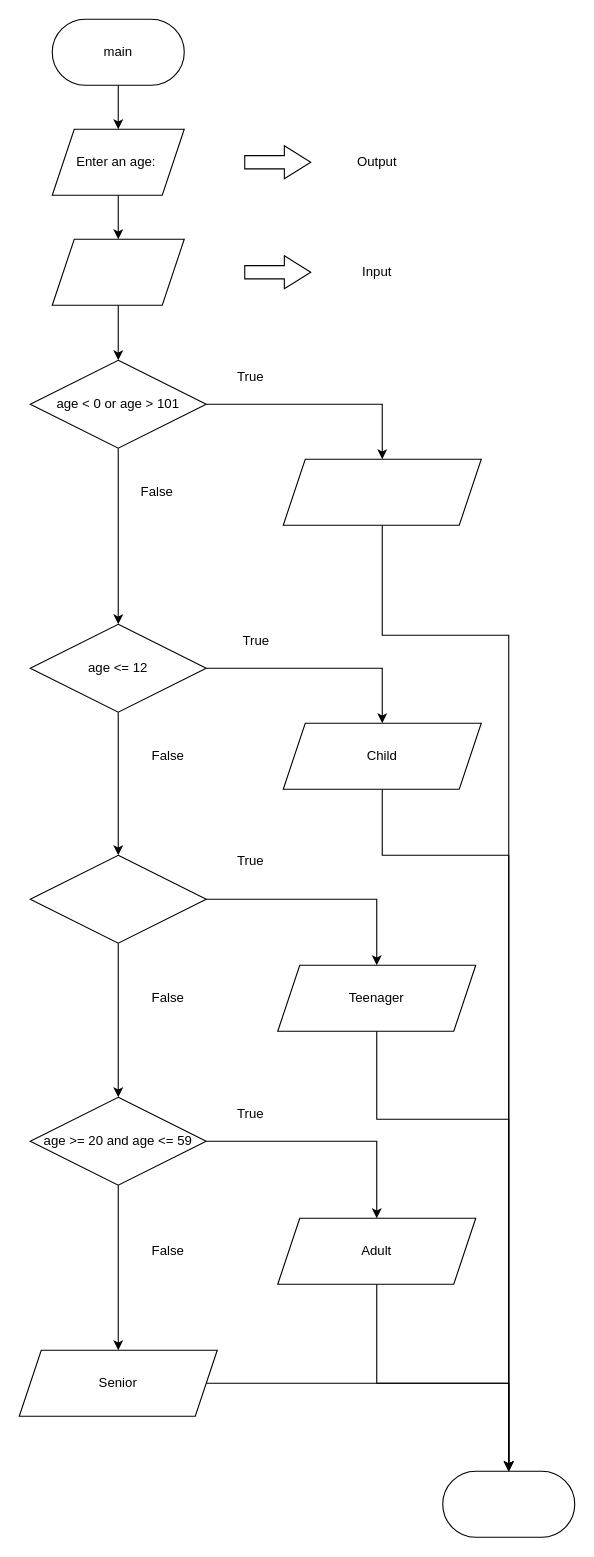
The diagram is 594 pixels wide and 1557 high, and some of its shapes have lost their labels. The shapes that lost their labels are listed below. From the top down, each one's centre as x and y in pixels, then its label:
At point (117, 271): "age".
At point (381, 491): "Bruh, enter correct age!".
At point (117, 898): "age >= 13 and age <=19".
At point (508, 1503): "END".
